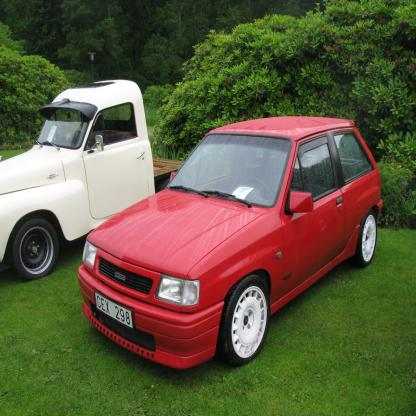Car: (75, 128, 385, 370)
